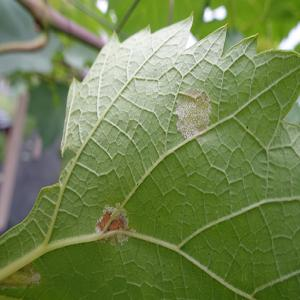Folha: (1, 12, 299, 298)
Fungo: (175, 87, 212, 139), (94, 202, 132, 246)
